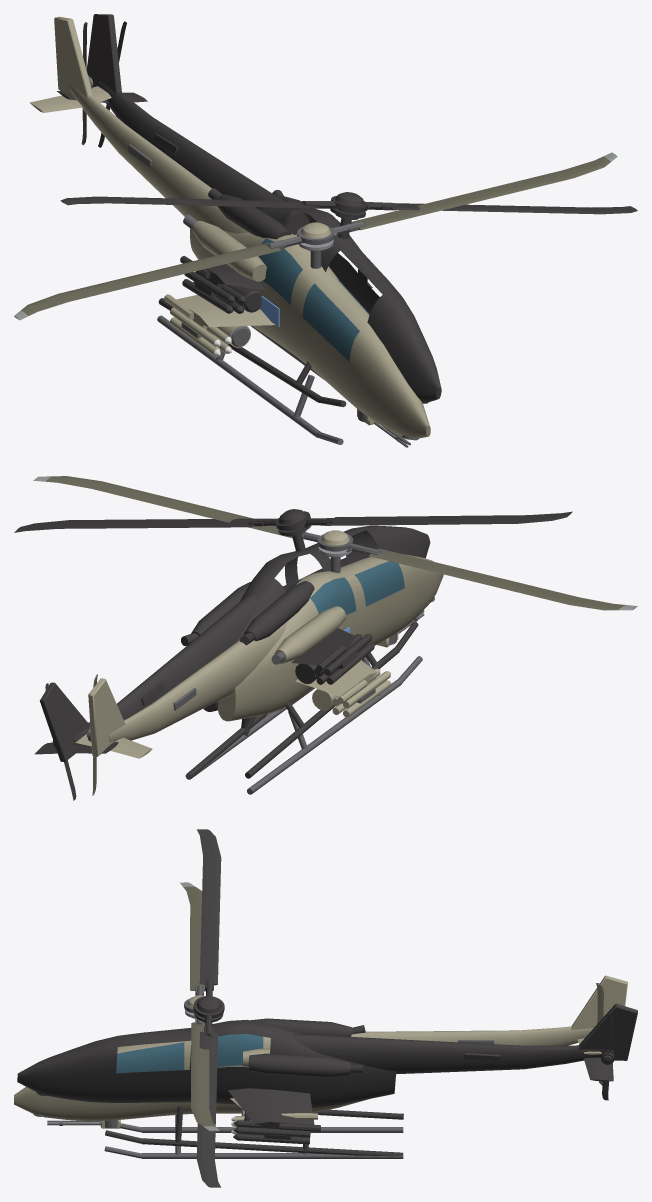
File: gunship__toufan.glb
The picture shows the model from 3 angles, top to bottom: view 1: azimuth 30°, elevation 25°; view 2: azimuth 150°, elevation 25°; view 3: azimuth 270°, elevation 25°; orthographic projection. The views are drawn at different scales.
Visible parts, largest first — view 1: Wreck, Fuselage_Mesh, Rotor_Main_Mesh, Stub_Wings_Stores_Mesh, Landing_Gear_Mesh, Engines_Mesh; view 2: Wreck, Fuselage_Mesh, Rotor_Main_Mesh, Stub_Wings_Stores_Mesh, Landing_Gear_Mesh, Engines_Mesh; view 3: Wreck, Fuselage_Mesh, Rotor_Main_Mesh, Landing_Gear_Mesh.
Part boxes in pixels (<box>): Wreck: <box>57,14,637,407</box>; Fuselage_Mesh: <box>29,16,430,440</box>; Rotor_Main_Mesh: <box>14,152,617,320</box>; Stub_Wings_Stores_Mesh: <box>164,294,275,356</box>; Landing_Gear_Mesh: <box>157,315,343,444</box>; Engines_Mesh: <box>183,215,296,281</box>; Wreck: <box>14,509,572,800</box>; Fuselage_Mesh: <box>75,554,443,758</box>; Rotor_Main_Mesh: <box>33,476,637,610</box>; Stub_Wings_Stores_Mesh: <box>295,660,390,717</box>; Landing_Gear_Mesh: <box>185,656,422,794</box>; Engines_Mesh: <box>271,606,345,664</box>; Wreck: <box>17,829,637,1187</box>; Fuselage_Mesh: <box>14,975,627,1121</box>; Rotor_Main_Mesh: <box>180,882,219,1131</box>; Landing_Gear_Mesh: <box>104,1115,403,1158</box>.
Size of what is drawn, in the model's own units: 13.82 by 5.43 by 14.23.
